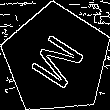M_SE: (23, 27, 89, 92)
